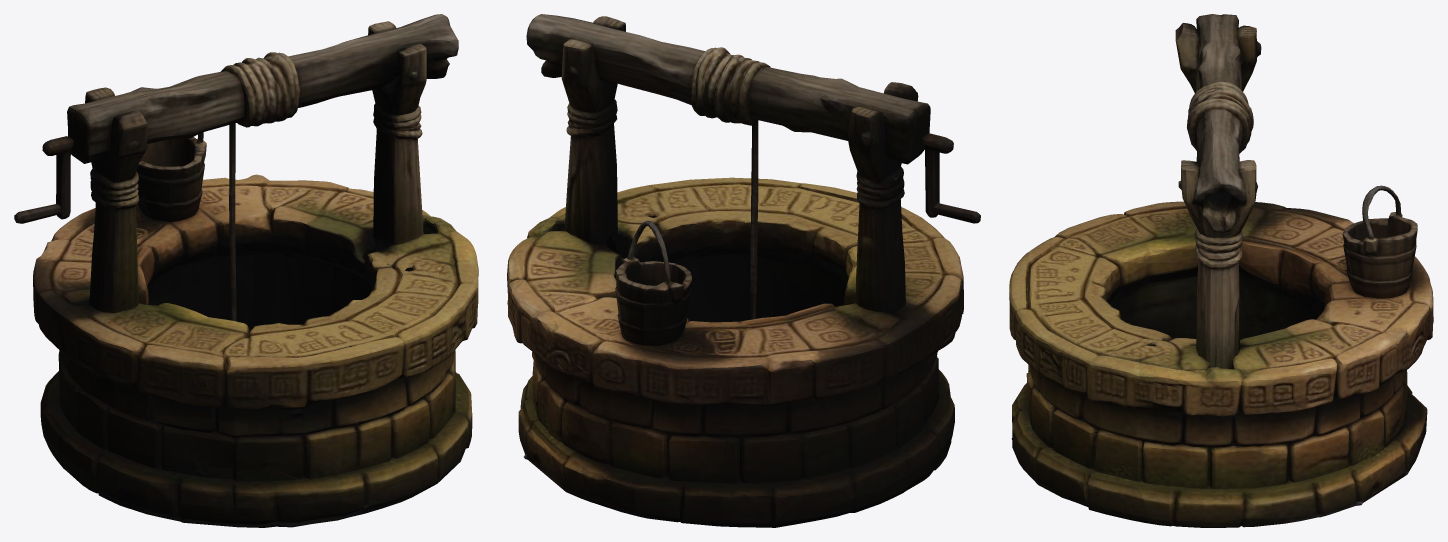
File: well.glb
3 renders of one model, left to right at view 1: azimuth 30°, elevation 25°; view 2: azimuth 150°, elevation 25°; view 3: azimuth 270°, elevation 25°, orthographic. The views are drawn at different scales.
Parts seen in each view (by area): view 1: world; view 2: world; view 3: world.
Part boxes in pixels (box(x1,y1,x2,y2)): world: box(14, 14, 478, 527); world: box(507, 14, 980, 527); world: box(1009, 14, 1433, 527).
Size of the model in its own units: 0.9992 by 0.8311 by 0.8851.
1 material, 1 textured.
